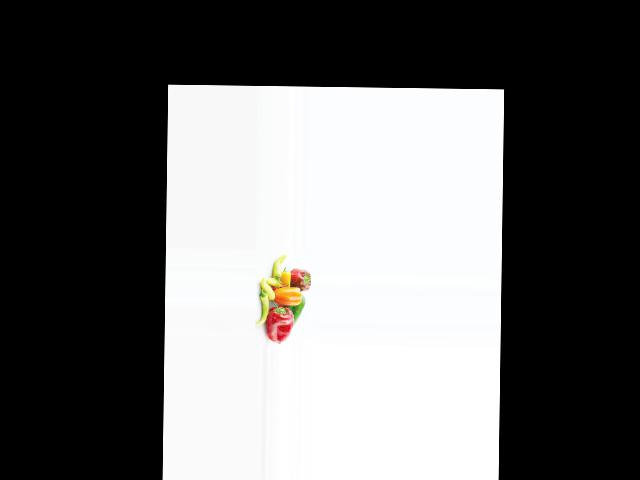bell_pepper: (256, 287, 268, 328)
